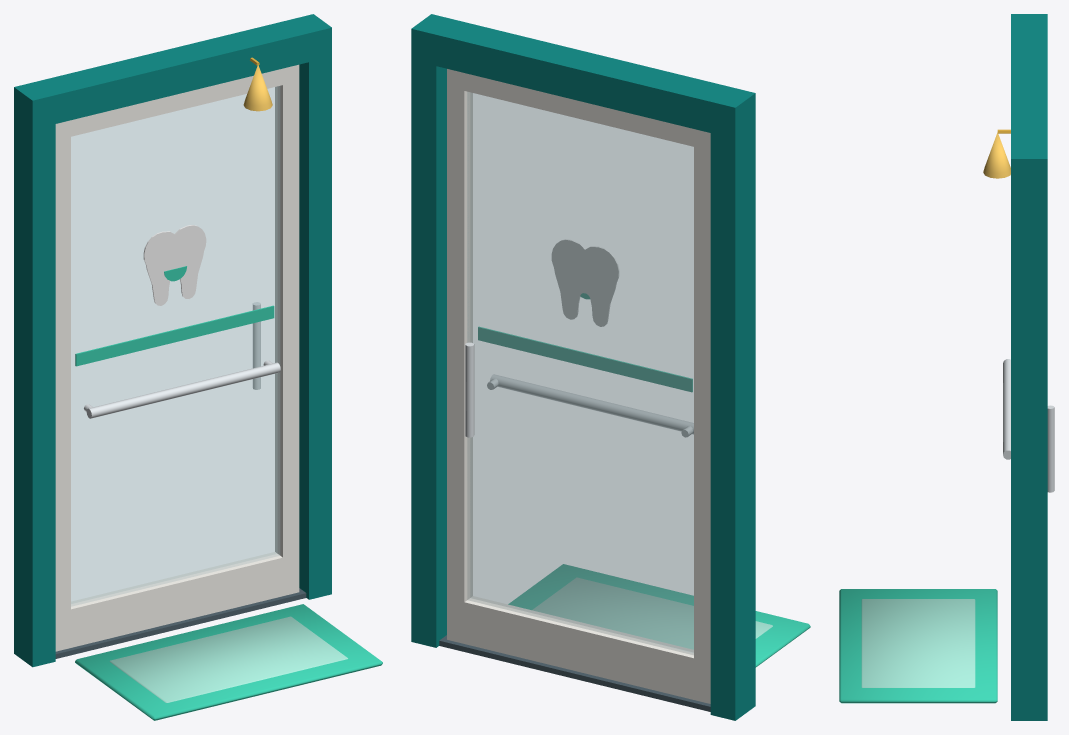
Rendered from entrance_door.glb.
3 views of the same model, side by side, from view 1: azimuth 30°, elevation 25°; view 2: azimuth 150°, elevation 25°; view 3: azimuth 270°, elevation 25° (orthographic). The views are drawn at different scales.
Parts seen in each view (by area): view 1: EntranceDoor; view 2: EntranceDoor; view 3: EntranceDoor.
Boxes of the visible parts, box(x1,y1,x2,y2) form: EntranceDoor: box(14, 14, 382, 720); EntranceDoor: box(411, 14, 810, 720); EntranceDoor: box(839, 14, 1054, 720).
Bounding box in the file's own units: 1.3 × 2.35 × 0.816.
